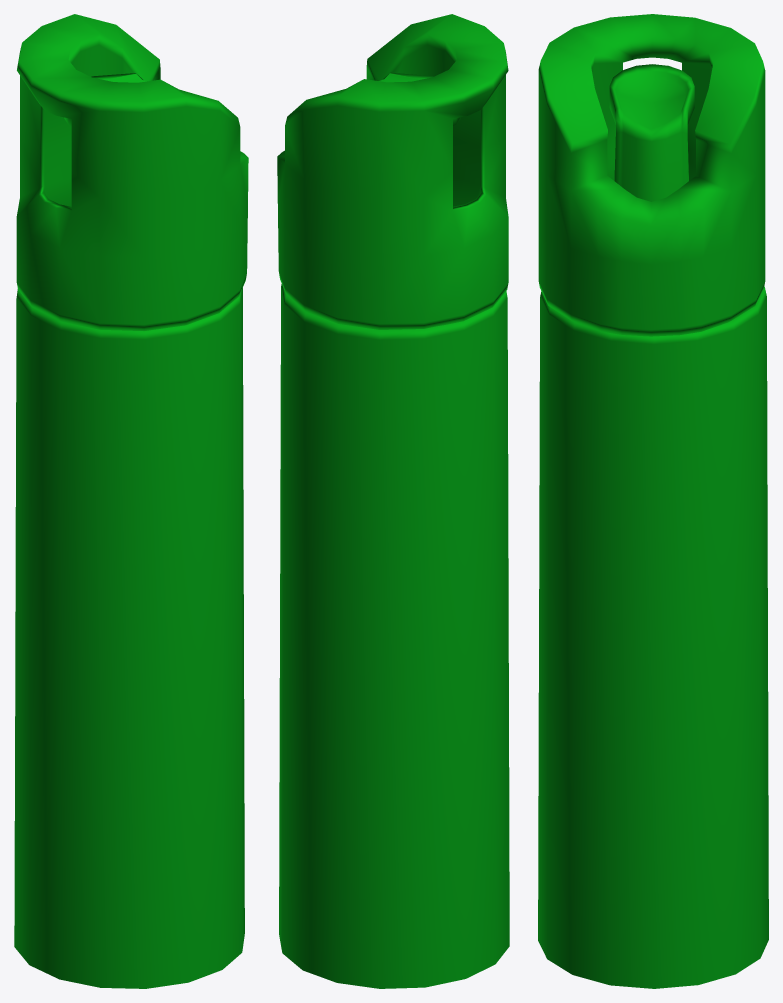
Rendered from Household_Products_03.fbx.
3 views of the same model, side by side, from view 1: azimuth 30°, elevation 25°; view 2: azimuth 150°, elevation 25°; view 3: azimuth 270°, elevation 25° (orthographic).
Parts seen in each view (by area): view 1: Household_Products_03; view 2: Household_Products_03; view 3: Household_Products_03.
Boxes of the visible parts, left/top/right/bottom form: Household_Products_03: left=14, top=14, right=248, bottom=988; Household_Products_03: left=277, top=14, right=509, bottom=988; Household_Products_03: left=538, top=14, right=768, bottom=988.
Bounding box in the file's own units: 50.28 × 211 × 50.14.
